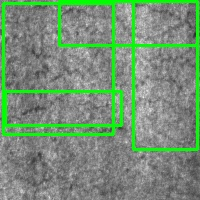crazing: (4, 3, 113, 134), (133, 1, 197, 149), (59, 1, 197, 45)
inclusion: (5, 91, 121, 125)
